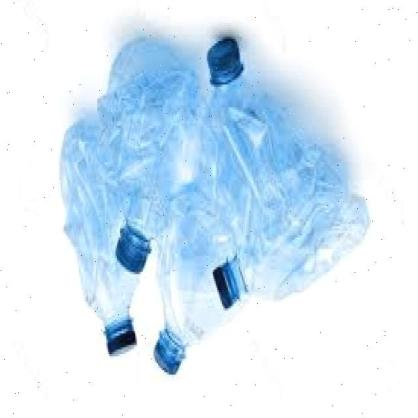bottle: (210, 147, 372, 318), (93, 41, 204, 278), (51, 117, 153, 364), (149, 190, 245, 382)
cap: (203, 33, 244, 81), (102, 323, 140, 361), (215, 270, 234, 313)
